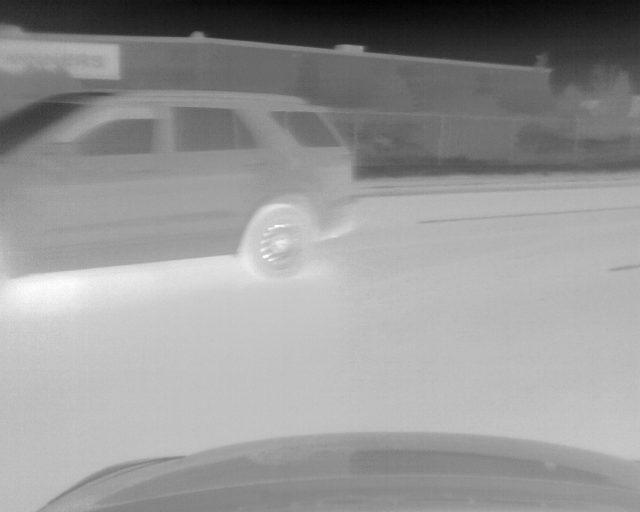car: (1, 88, 358, 280)
